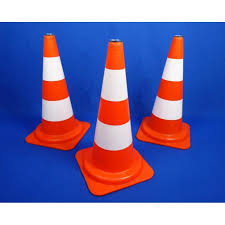cones: (79, 40, 154, 190), (29, 36, 87, 150), (137, 37, 190, 149)
